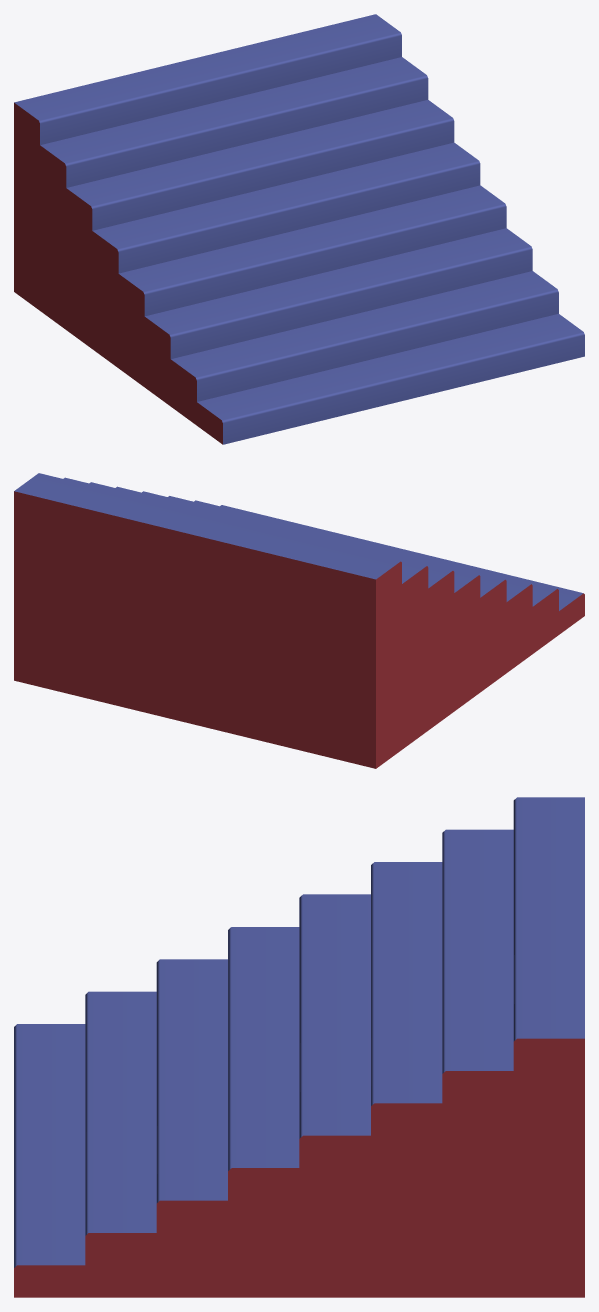
File: SM_Stair_Middle_2x2_01.fbx
The picture shows the model from 3 angles, top to bottom: view 1: azimuth 30°, elevation 25°; view 2: azimuth 150°, elevation 25°; view 3: azimuth 270°, elevation 25°; orthographic projection. The views are drawn at different scales.
Parts seen in each view (by area): view 1: SM_Stair_Middle_2x2_01; view 2: SM_Stair_Middle_2x2_01; view 3: SM_Stair_Middle_2x2_01.
Boxes of the visible parts, x1,y1,x2,y2 form: SM_Stair_Middle_2x2_01: (14,14,584,444); SM_Stair_Middle_2x2_01: (14,473,584,768); SM_Stair_Middle_2x2_01: (14,797,584,1297).
Bounding box in the file's own units: 200 × 100 × 200.
